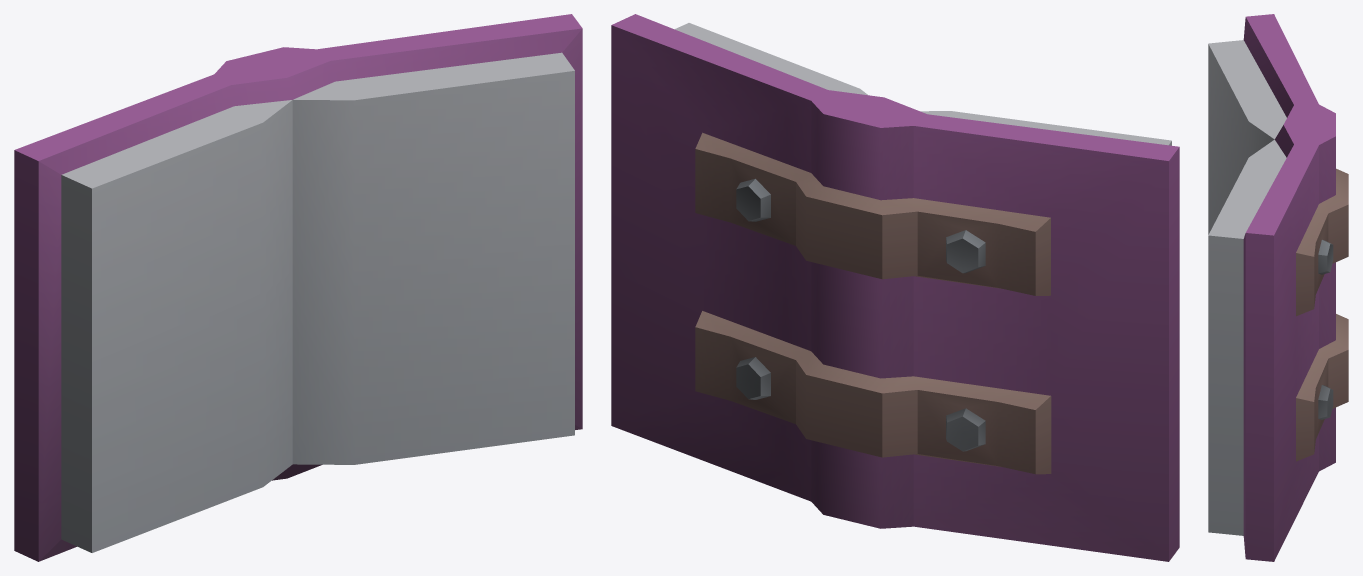
Rendered from spellbook_open.glb.
The picture shows the model from 3 angles, left to right: view 1: azimuth 30°, elevation 25°; view 2: azimuth 150°, elevation 25°; view 3: azimuth 270°, elevation 25°; orthographic projection. The views are drawn at different scales.
Visible parts, largest first — view 1: spellbook_open; view 2: spellbook_open; view 3: spellbook_open.
Boxes of the visible parts, x1=… form: spellbook_open: x1=14, y1=14, x2=582, y2=561; spellbook_open: x1=611, y1=14, x2=1179, y2=561; spellbook_open: x1=1208, y1=14, x2=1348, y2=561.
Size of the model in its own units: 0.8282 by 0.5688 by 0.2219.
1 material, 1 textured.
